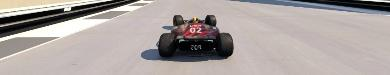Car: (156, 14, 233, 57)
Solid White and black: (0, 0, 155, 69)
